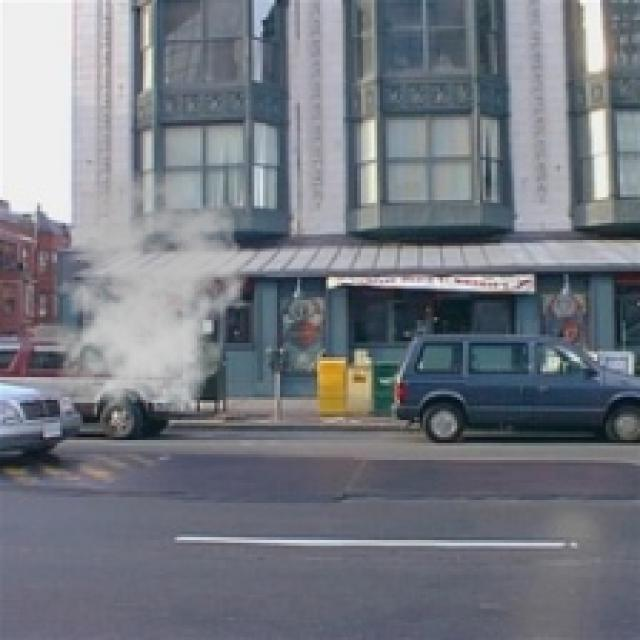Smoke: (40, 168, 254, 422)
